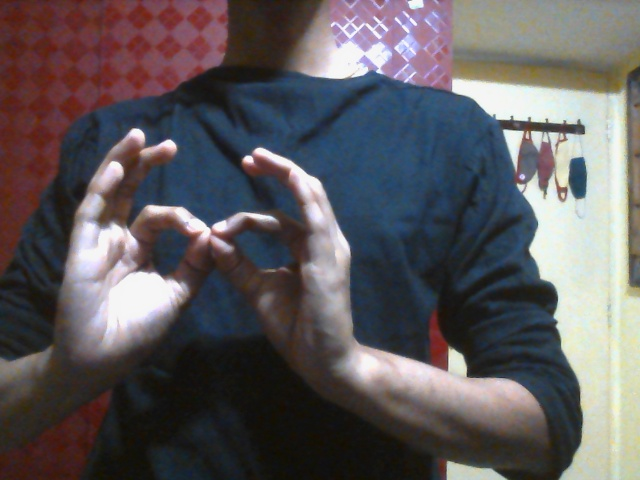B: (53, 128, 357, 394)
